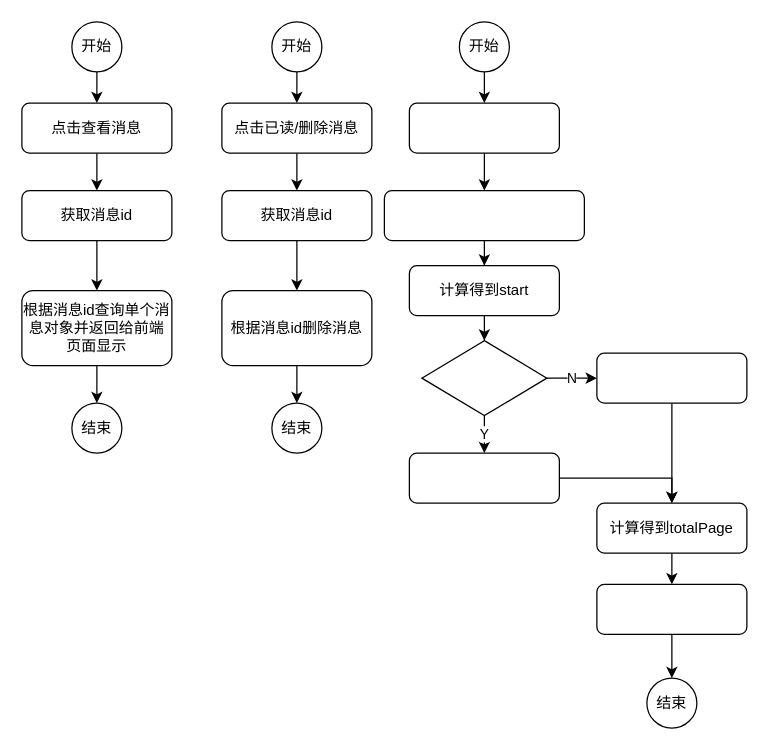
Image size: 769x750. Some labels were removed from this diagram. Here are the shapes that lost their labels. From the top down, the box of each, then its label:
(408, 102, 559, 153): 输入查询字符串/点击页码
(383, 189, 584, 241): 获取searchString/currentPage
(421, 339, 547, 416): searchString是否为空
(596, 352, 747, 403): 无SearchString查询
(408, 452, 559, 503): 有SearchString查询
(596, 583, 747, 634): 包装为messagePageBean,返回前端
